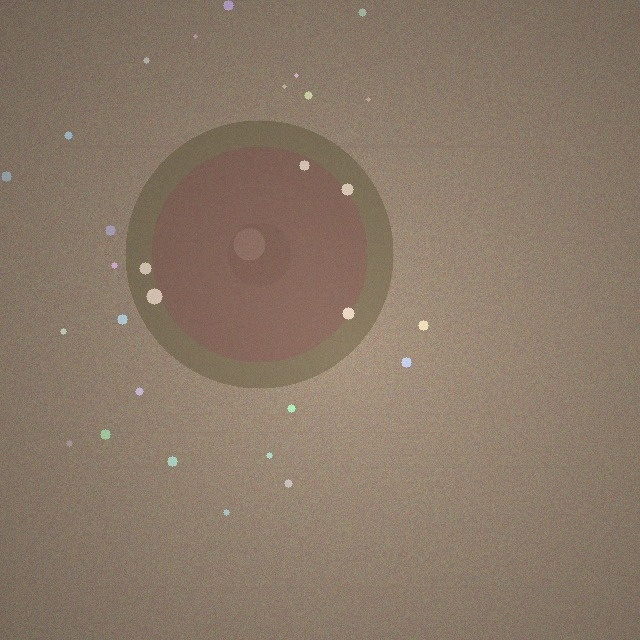overburn: (125, 120, 393, 388)
